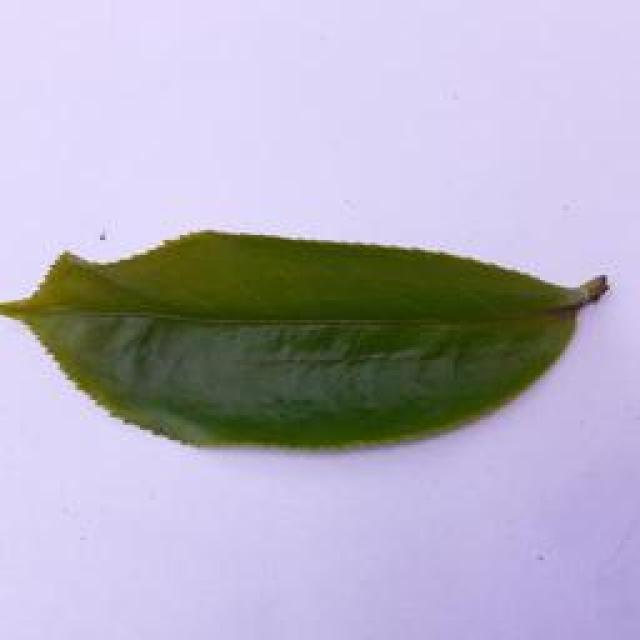Healthy: (3, 220, 638, 461)
